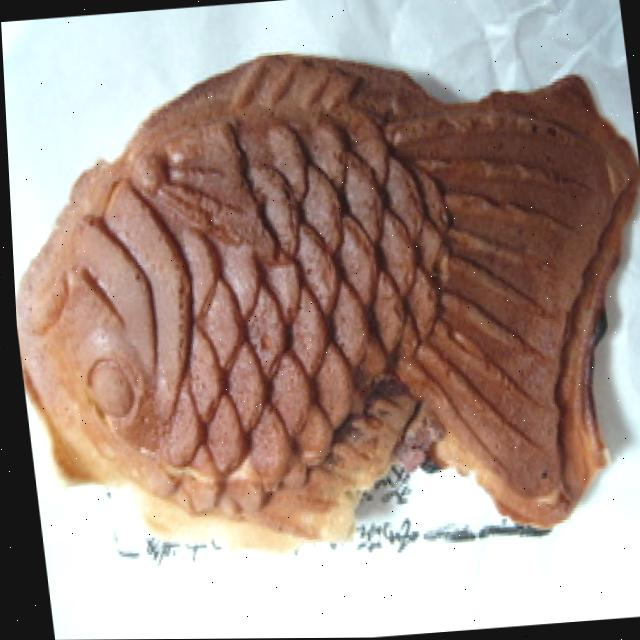熟制海鲜: (1, 28, 640, 573)
